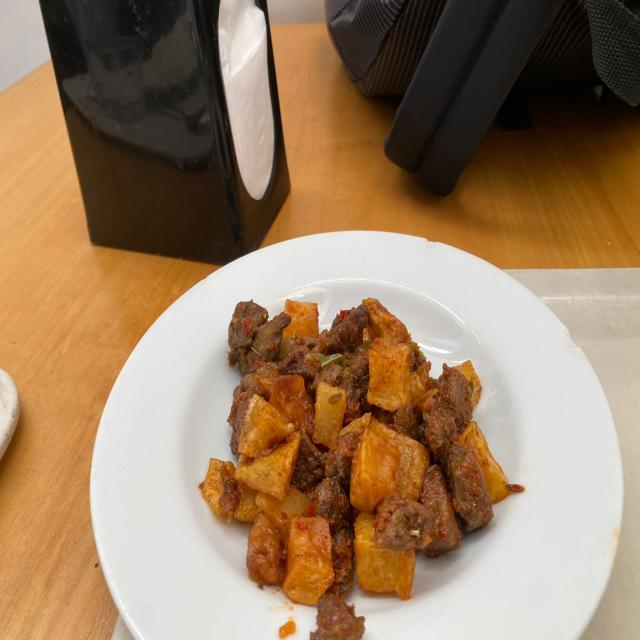ana_yemek: (198, 293, 524, 637)
